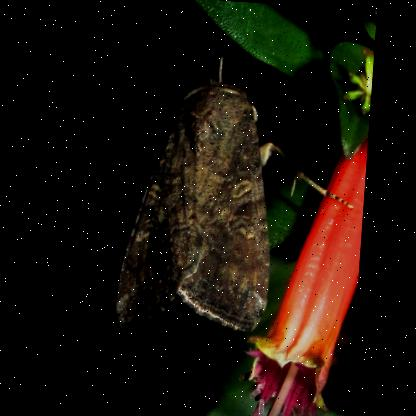Fall Armyworm Moth: (109, 46, 368, 354)
